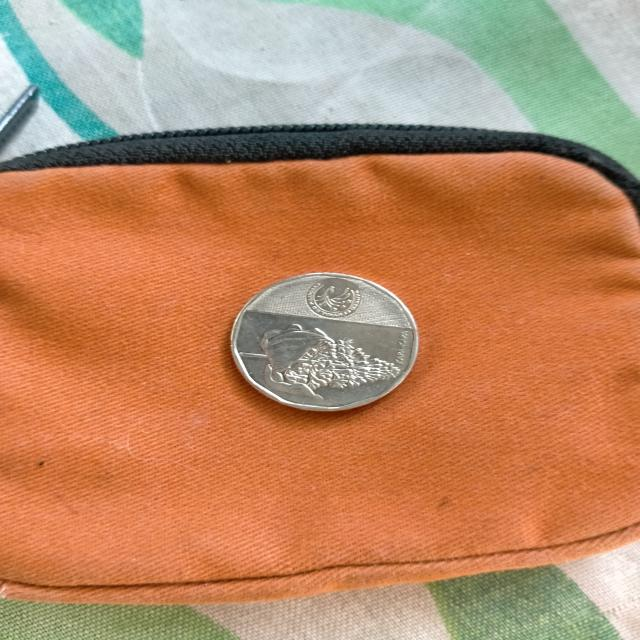10_New_Back: (254, 314, 408, 401)
